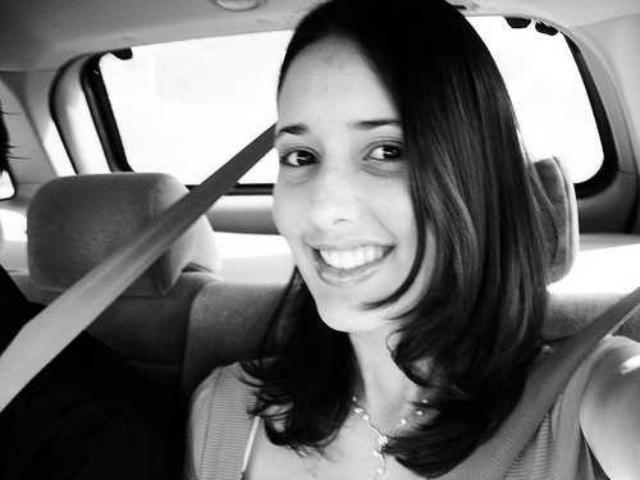SafeDriving: (348, 123, 422, 174), (270, 132, 330, 178)
Seatbelt: (0, 112, 280, 416), (422, 278, 640, 480)
